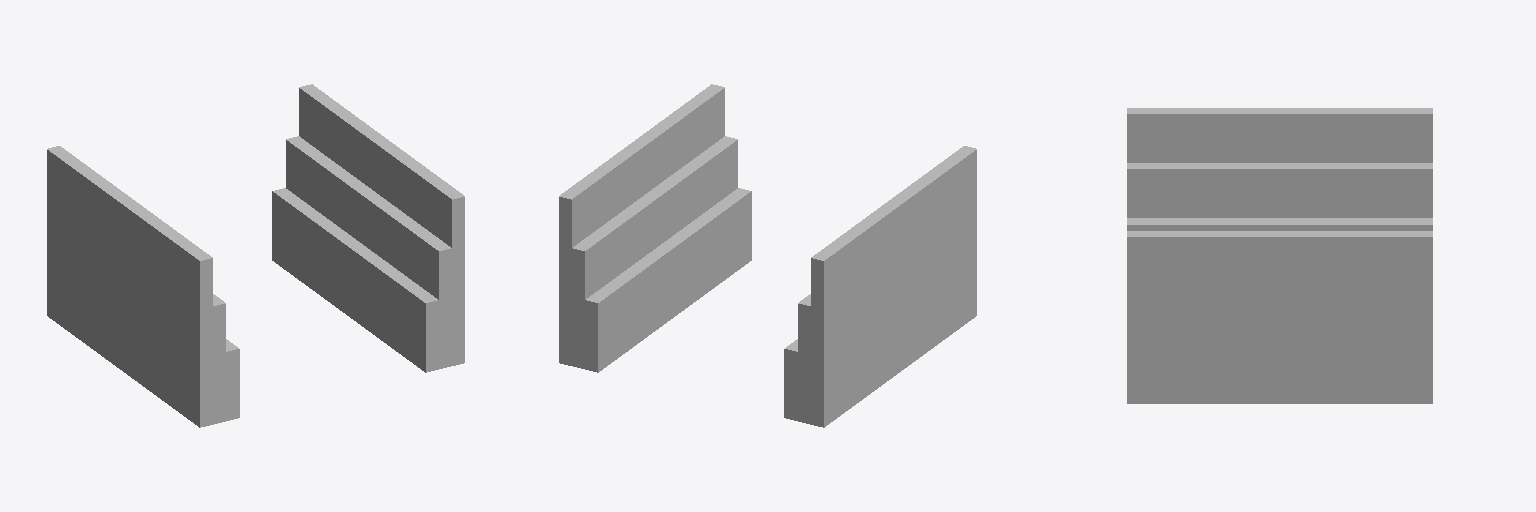
Rendered from wall.obj.
3 renders of one model, left to right at view 1: azimuth 30°, elevation 25°; view 2: azimuth 150°, elevation 25°; view 3: azimuth 270°, elevation 25°, orthographic.
Parts seen in each view (by area): view 1: wall; view 2: wall; view 3: wall.
Boxes of the visible parts, x1=… form: wall: x1=47, y1=84, x2=464, y2=427; wall: x1=559, y1=84, x2=976, y2=427; wall: x1=1127, y1=108, x2=1432, y2=403.
Size of the model in its own units: 40 by 24 by 40.